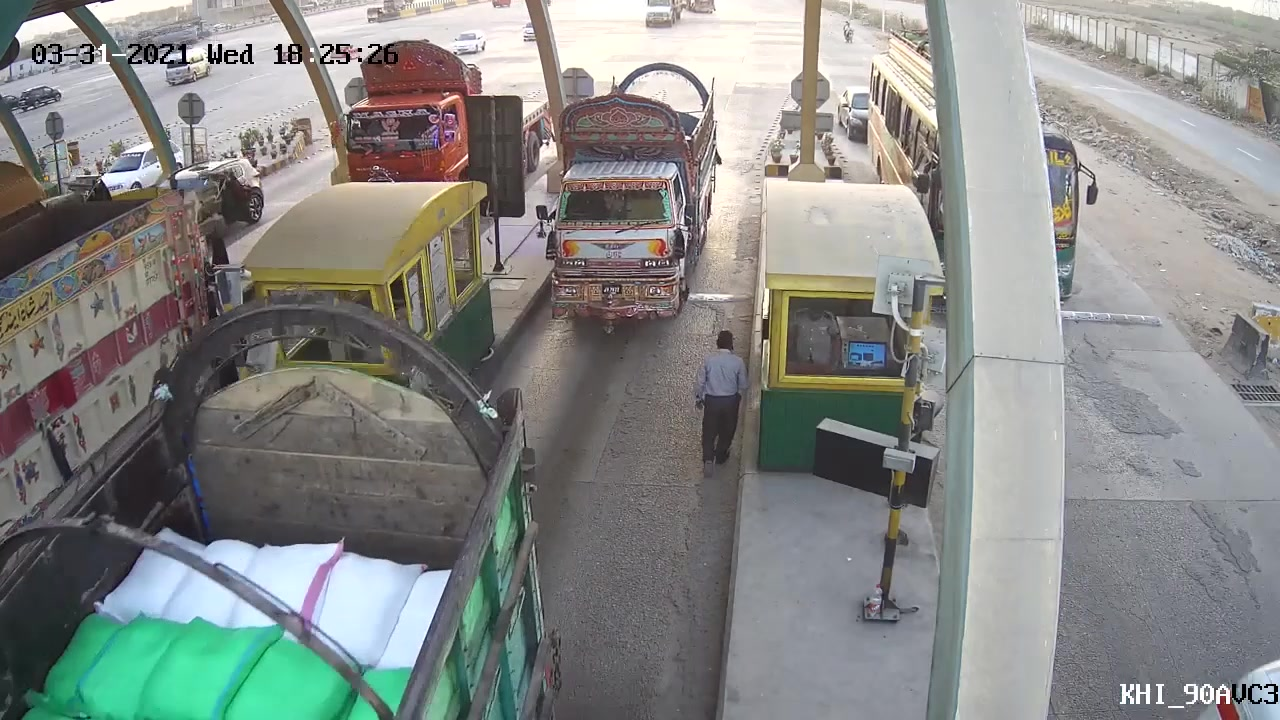F5: (528, 68, 725, 331)
